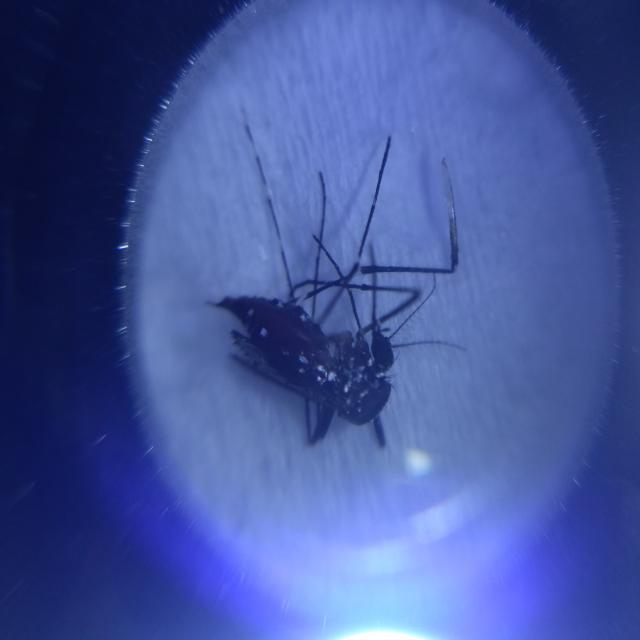albopictus: (199, 103, 475, 466)
